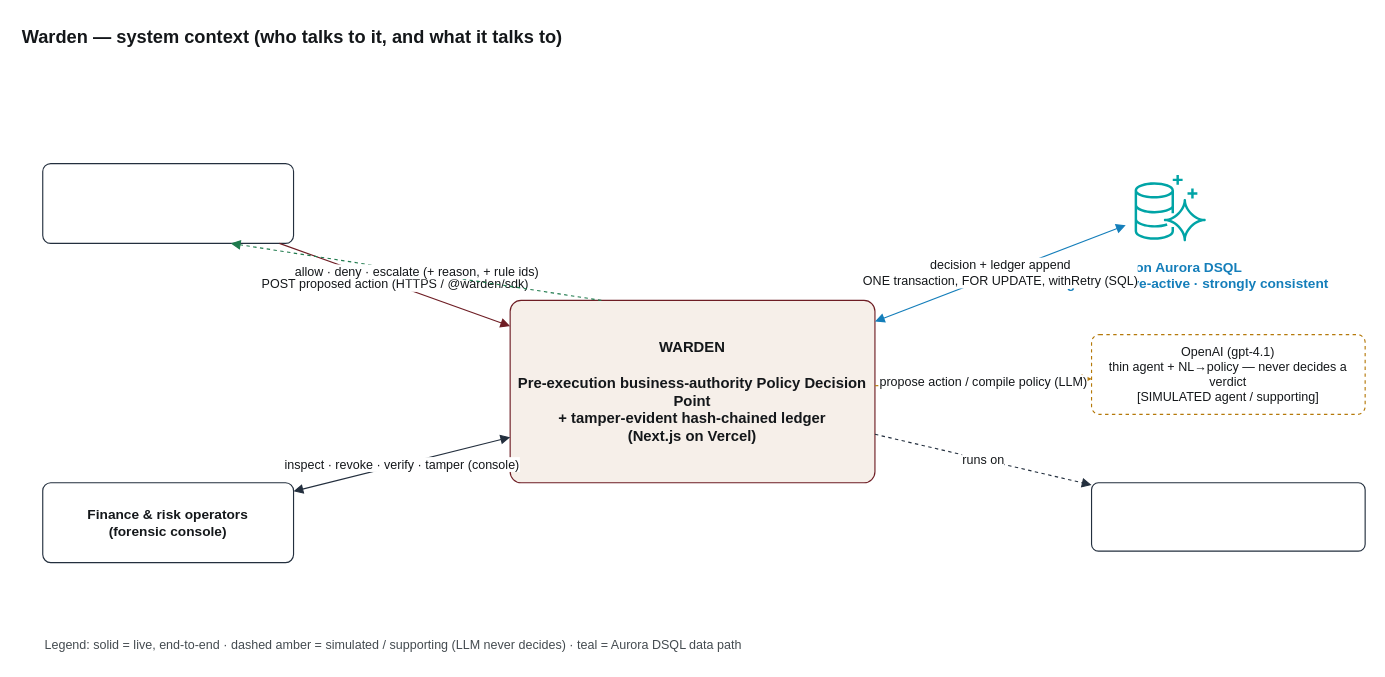
Image size: 1385x677. Some labels were removed from this diagram. The centre of each missing label's shape, as x and y in pixels:
Enterprise AI agent (SAP Joule · Oracle · LangGraph · custom): point (168, 202)
Vercel hosting · Fluid Compute · OIDC→AWS: point (1227, 516)
